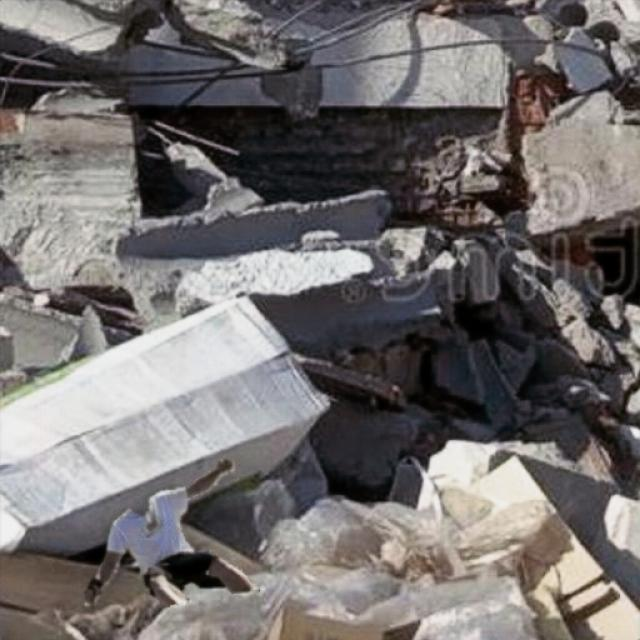Person in Rubble: (85, 458, 259, 606)
